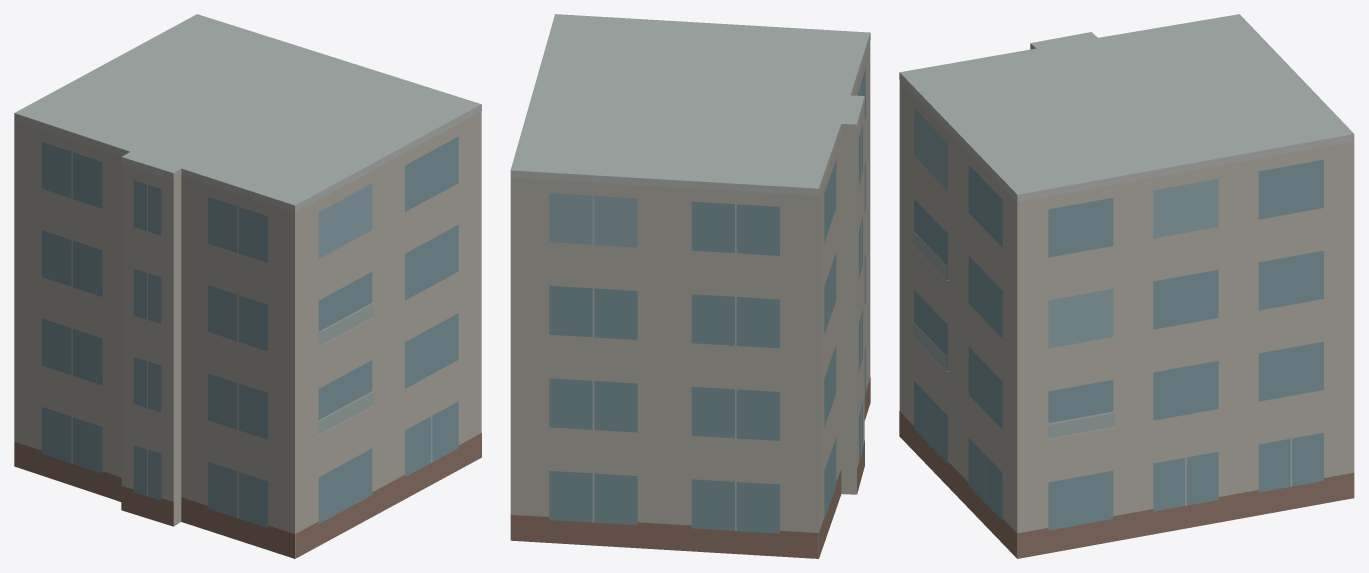
The model's file is survey-upis-32853068.glb.
3 views of the same model, side by side, from view 1: azimuth 30°, elevation 25°; view 2: azimuth 150°, elevation 25°; view 3: azimuth 270°, elevation 25° (orthographic). The views are drawn at different scales.
Visible parts, largest first — view 1: survey-upis-32853068.tmp; view 2: survey-upis-32853068.tmp; view 3: survey-upis-32853068.tmp.
Boxes of the visible parts, x1,y1,x2,y2 form: survey-upis-32853068.tmp: (14, 14, 481, 558); survey-upis-32853068.tmp: (510, 14, 870, 558); survey-upis-32853068.tmp: (899, 14, 1354, 558).
Size of the model in its own units: 12.99 by 12.19 by 13.81.
